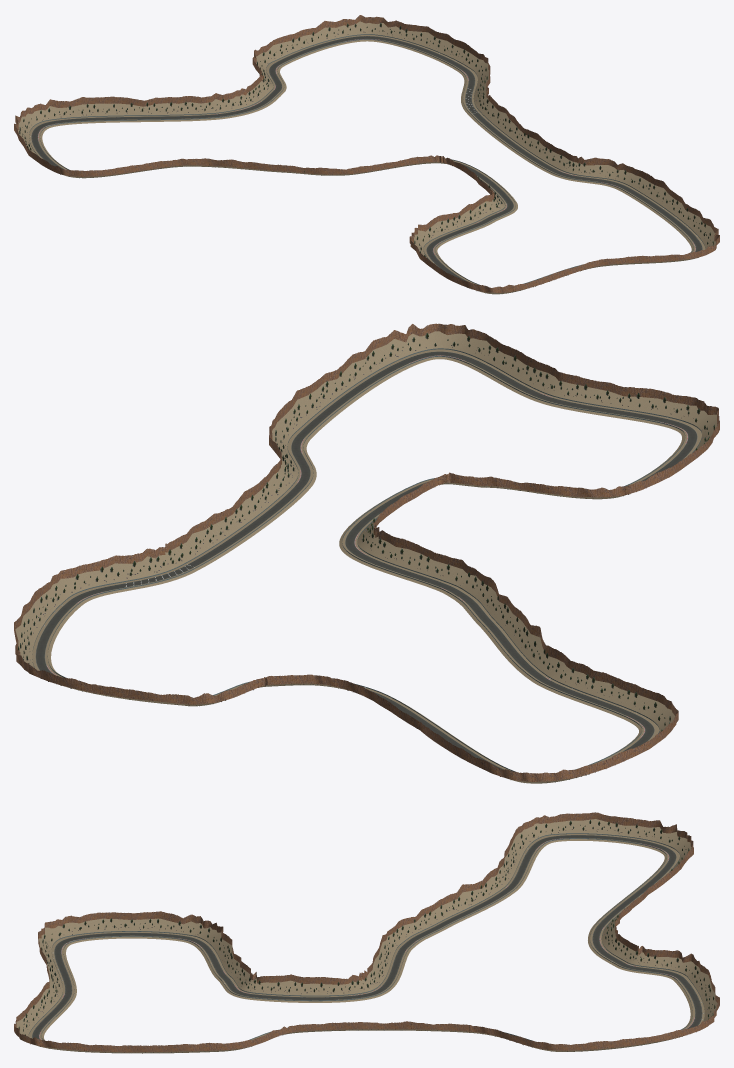
The picture shows the model from 3 angles, top to bottom: view 1: azimuth 30°, elevation 25°; view 2: azimuth 150°, elevation 25°; view 3: azimuth 270°, elevation 25°; orthographic projection. The views are drawn at different scales.
Visible parts, largest first — view 1: RaceTrack_Main, RaceTrack_Trees; view 2: RaceTrack_Main, RaceTrack_Trees; view 3: RaceTrack_Main, RaceTrack_Trees.
Part boxes in pixels (bbox=[...]): RaceTrack_Main: bbox=[14, 15, 719, 294]; RaceTrack_Trees: bbox=[19, 23, 713, 293]; RaceTrack_Main: bbox=[14, 323, 719, 783]; RaceTrack_Trees: bbox=[18, 333, 714, 782]; RaceTrack_Main: bbox=[14, 812, 719, 1053]; RaceTrack_Trees: bbox=[18, 820, 715, 1053].
Bounding box in the file's own units: 1052 × 37.63 × 1352.
